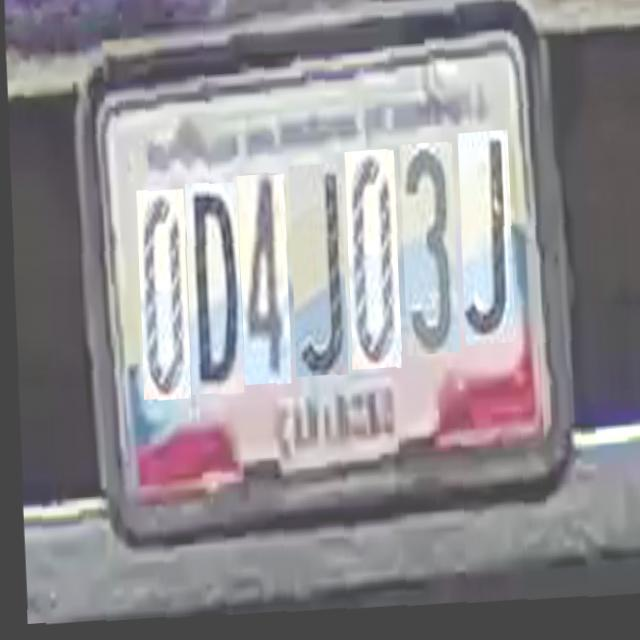0: (340, 148, 397, 368), (132, 189, 186, 401)
3: (395, 140, 455, 353)
4: (232, 172, 286, 384)
D: (180, 181, 240, 395)
J: (284, 162, 344, 376), (454, 128, 511, 342)
